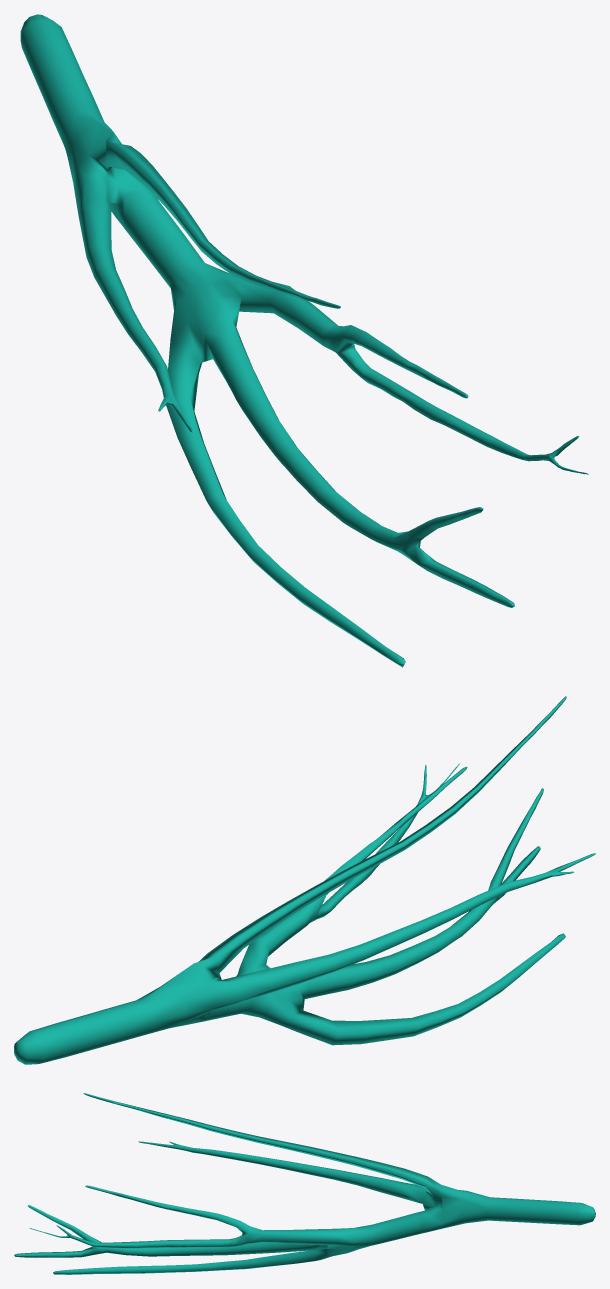
Rendered from Olfactory_nerve_R.glb.
The picture shows the model from 3 angles, top to bottom: view 1: azimuth 30°, elevation 25°; view 2: azimuth 150°, elevation 25°; view 3: azimuth 270°, elevation 25°; orthographic projection. The views are drawn at different scales.
Parts seen in each view (by area): view 1: Olfactory_nerve_R.001; view 2: Olfactory_nerve_R.001; view 3: Olfactory_nerve_R.001.
Part boxes in pixels (bbox=[...]): Olfactory_nerve_R.001: bbox=[20, 14, 588, 667]; Olfactory_nerve_R.001: bbox=[14, 696, 595, 1064]; Olfactory_nerve_R.001: bbox=[14, 1093, 595, 1274].
Size of the model in its own units: 0.0123 by 0.013 by 0.0394.
Materials: 1 (1 with a texture image).
